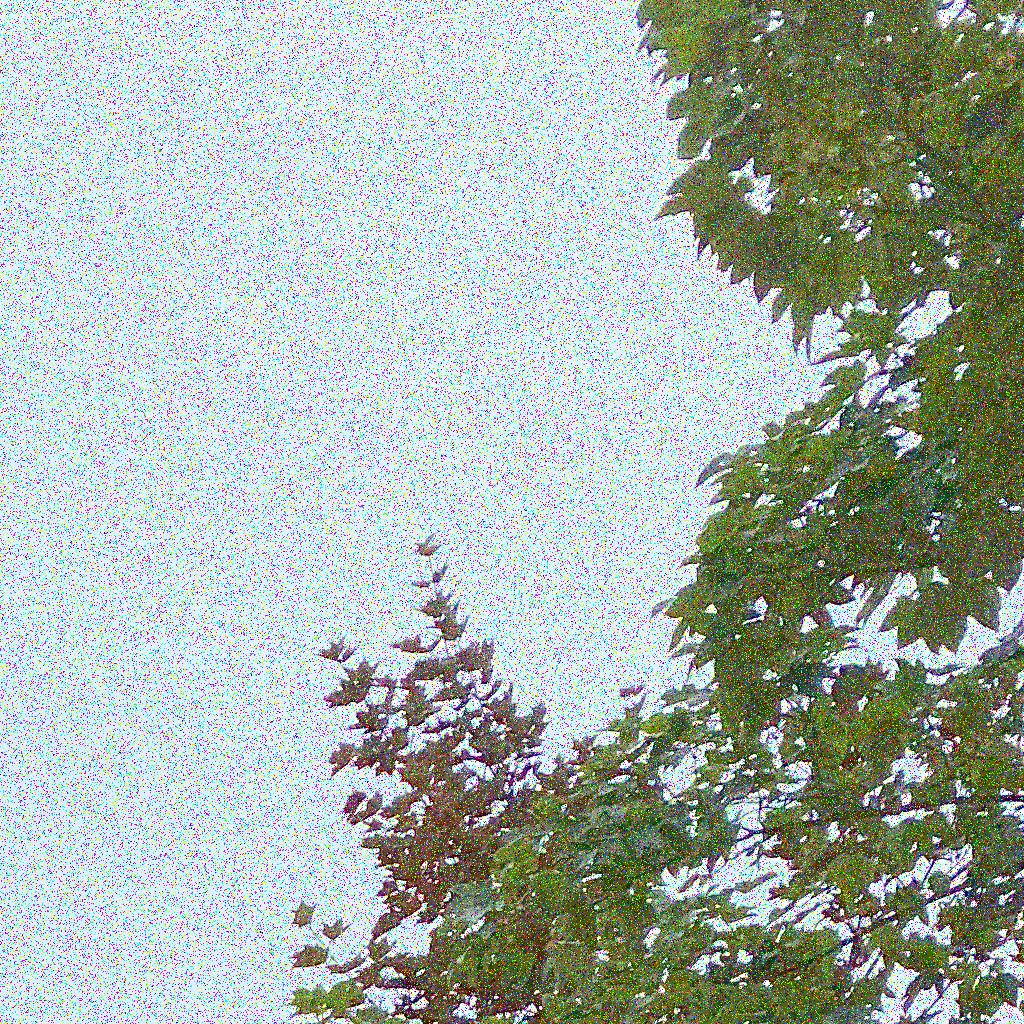tree: (290, 1, 1024, 1024), (290, 530, 678, 1024)
